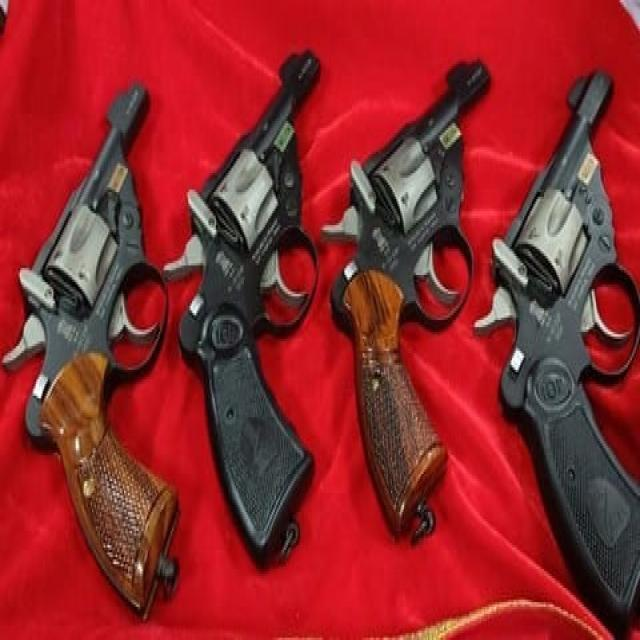Pistol: (4, 78, 179, 624), (493, 66, 640, 628), (329, 56, 493, 537), (188, 64, 315, 562)
